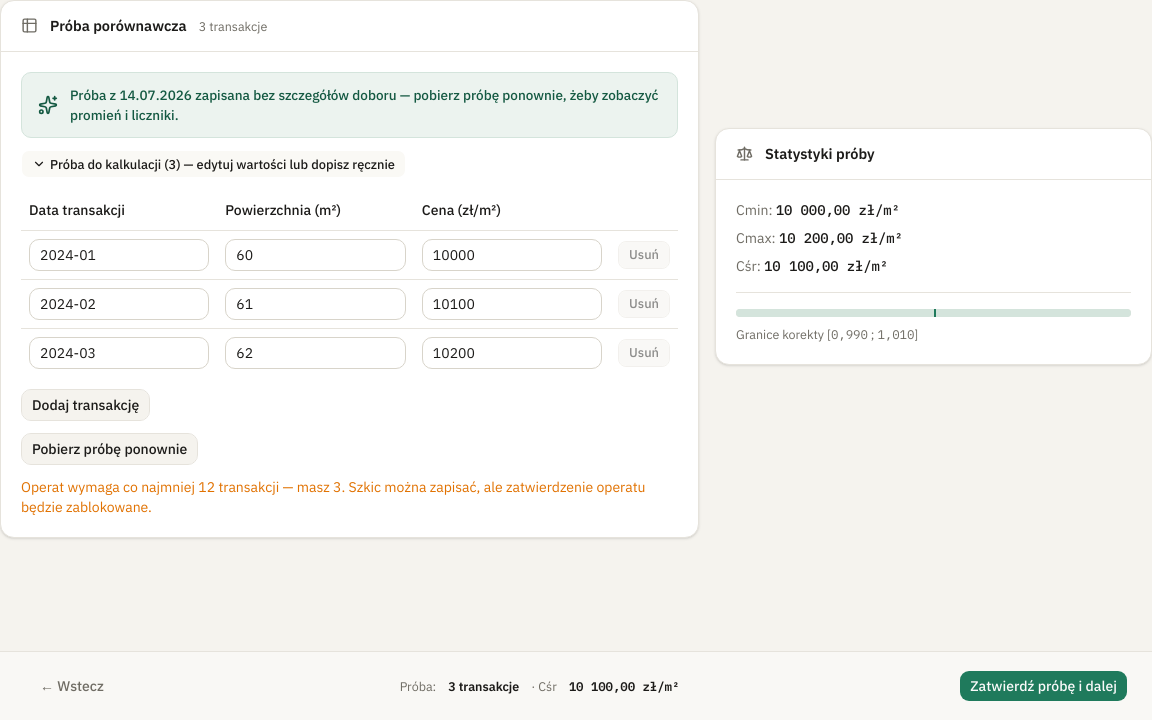
Test: StepSample — legacy v2 sampleMeta draft (item A) › surfaces the resolver error instead of a silently inert submit
The image size is (1152, 720).
Click the button "Zatwierdź próbę i dalej".
click(1044, 686)  # box 959,670 -> 1128,702
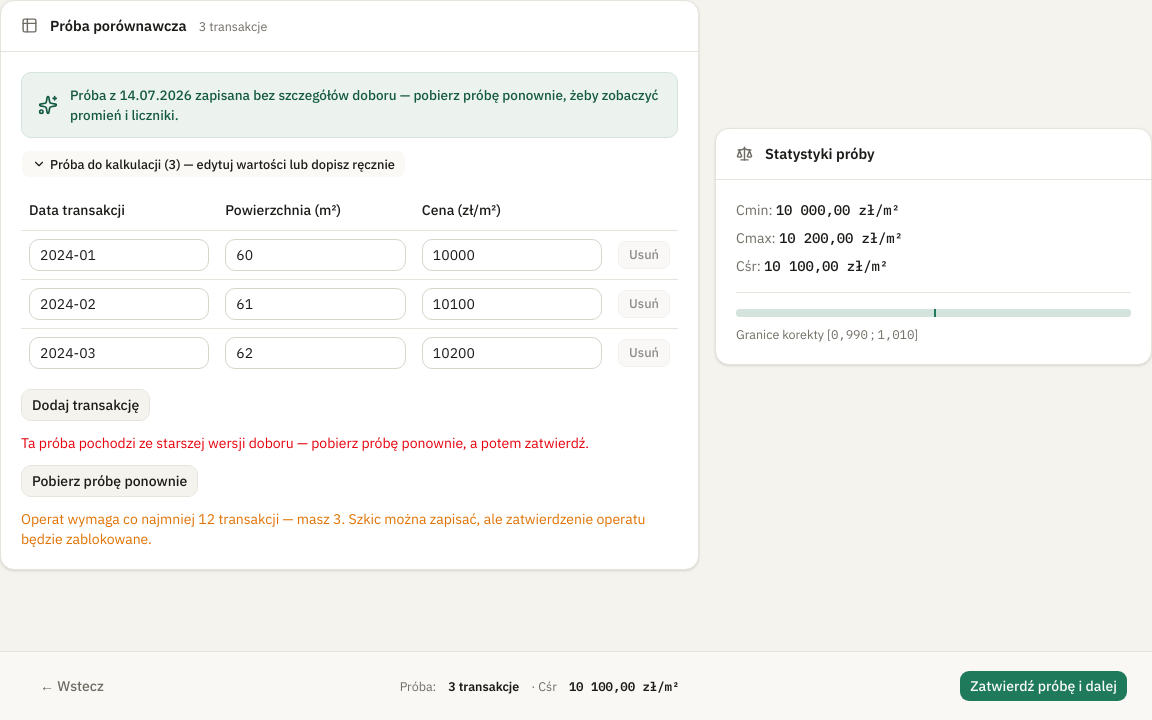
Result: the 2nd message shows "Ta próba pochodzi ze starszej wersji doboru" at 21,434 -> 589,452
